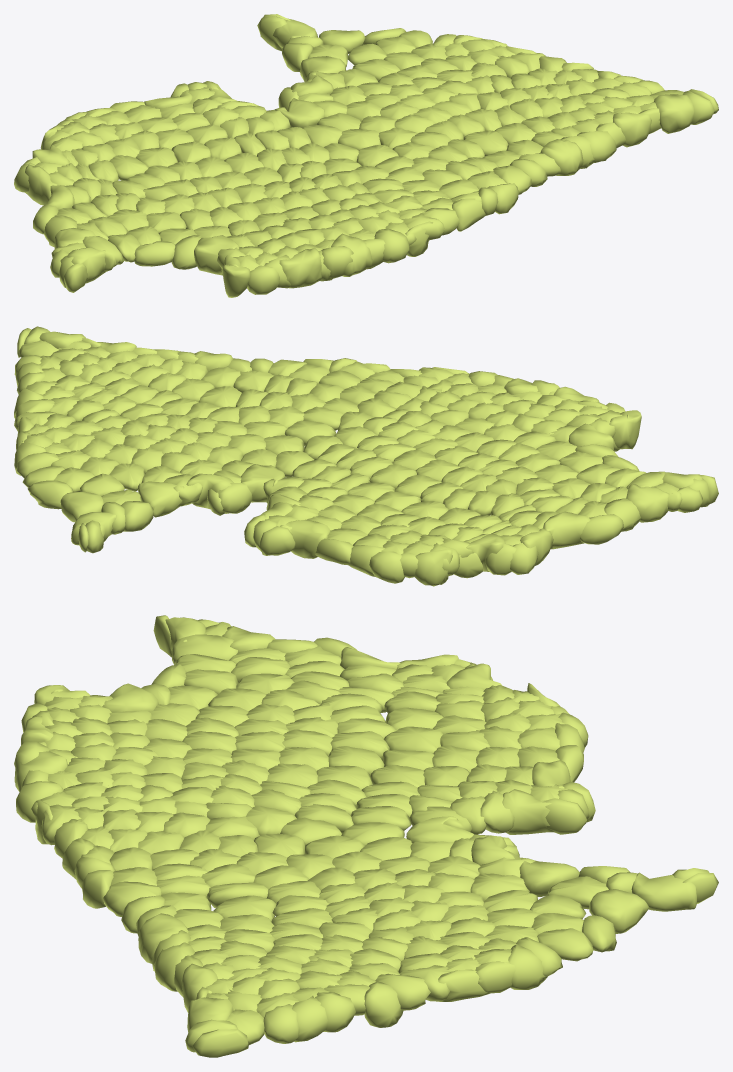
The model's file is Islands4.001_fog.fbx.
The picture shows the model from 3 angles, top to bottom: view 1: azimuth 30°, elevation 25°; view 2: azimuth 150°, elevation 25°; view 3: azimuth 270°, elevation 25°; orthographic projection. The views are drawn at different scales.
Parts seen in each view (by area): view 1: Island4.001_fog_cell.084, Island4.001_fog_cell.246, Island4.001_fog_cell.283, Island4.001_fog_cell.213, Island4.001_fog_cell.288, Island4.001_fog_cell.175, Island4.001_fog_cell.267, Island4.001_fog_cell.190, Island4.001_fog_cell.167, Island4.001_fog_cell.146, Island4.001_fog_cell.131, Island4.001_fog_cell.041 (+76 smaller); view 2: Island4.001_fog_cell.178, Island4.001_fog_cell.139, Island4.001_fog_cell.112, Island4.001_fog_cell.238, Island4.001_fog_cell.129, Island4.001_fog_cell.083, Island4.001_fog_cell.267, Island4.001_fog_cell.101, Island4.001_fog_cell.167, Island4.001_fog_cell.089, Island4.001_fog_cell.172, Island4.001_fog_cell.018 (+113 smaller); view 3: Island4.001_fog_cell.079, Island4.001_fog_cell.101, Island4.001_fog_cell.207, Island4.001_fog_cell.238, Island4.001_fog_cell.045, Island4.001_fog_cell.142, Island4.001_fog_cell.227, Island4.001_fog_cell.213, Island4.001_fog_cell.014, Island4.001_fog_cell.222, Island4.001_fog_cell.173, Island4.001_fog_cell.267 (+112 smaller).
Boxes of the visible parts, x1,y1,x2,y2 form: Island4.001_fog_cell.084: [654, 94, 694, 133]; Island4.001_fog_cell.246: [279, 248, 321, 288]; Island4.001_fog_cell.283: [194, 235, 239, 275]; Island4.001_fog_cell.213: [540, 139, 583, 175]; Island4.001_fog_cell.288: [613, 111, 651, 147]; Island4.001_fog_cell.175: [331, 233, 372, 276]; Island4.001_fog_cell.267: [275, 98, 324, 128]; Island4.001_fog_cell.190: [134, 241, 175, 266]; Island4.001_fog_cell.167: [223, 255, 250, 297]; Island4.001_fog_cell.146: [374, 228, 409, 263]; Island4.001_fog_cell.131: [24, 164, 57, 205]; Island4.001_fog_cell.041: [67, 247, 105, 283]; Island4.001_fog_cell.178: [543, 511, 590, 549]; Island4.001_fog_cell.139: [626, 483, 669, 522]; Island4.001_fog_cell.112: [280, 519, 330, 558]; Island4.001_fog_cell.238: [138, 481, 184, 517]; Island4.001_fog_cell.129: [414, 549, 452, 586]; Island4.001_fog_cell.083: [580, 514, 623, 544]; Island4.001_fog_cell.267: [240, 464, 285, 502]; Island4.001_fog_cell.101: [60, 491, 103, 522]; Island4.001_fog_cell.167: [609, 410, 641, 449]; Island4.001_fog_cell.089: [369, 551, 405, 583]; Island4.001_fog_cell.172: [27, 480, 72, 509]; Island4.001_fog_cell.018: [260, 526, 295, 555]; Island4.001_fog_cell.079: [631, 872, 696, 911]; Island4.001_fog_cell.101: [589, 889, 649, 933]; Island4.001_fog_cell.207: [502, 789, 554, 834]; Island4.001_fog_cell.238: [519, 858, 579, 896]; Island4.001_fog_cell.045: [364, 981, 403, 1027]; Island4.001_fog_cell.142: [172, 634, 237, 664]; Island4.001_fog_cell.227: [537, 928, 593, 961]; Island4.001_fog_cell.213: [138, 913, 188, 963]; Island4.001_fog_cell.014: [192, 1029, 248, 1057]; Island4.001_fog_cell.222: [508, 944, 547, 989]; Island4.001_fog_cell.173: [384, 726, 443, 753]; Island4.001_fog_cell.267: [406, 816, 473, 843].
Size of the model in its own units: 241 by 12.38 by 169.
